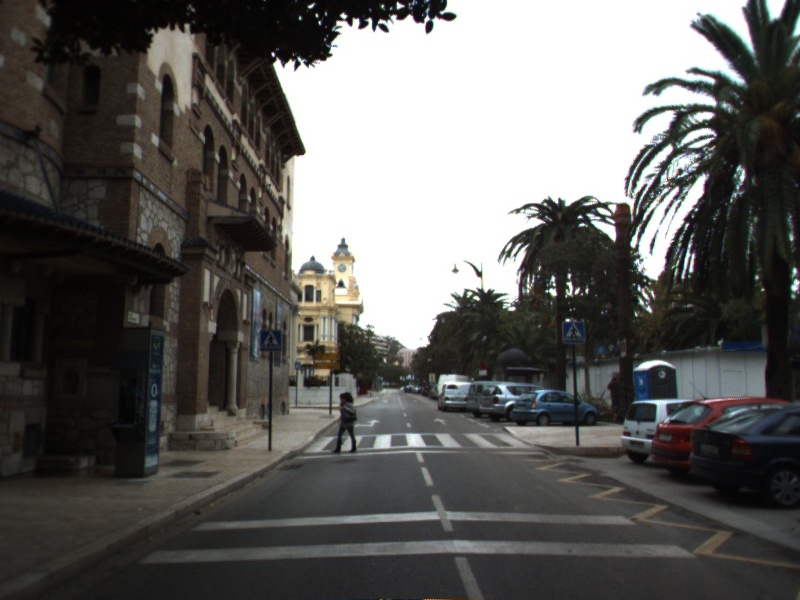STRAIGHT: (431, 416, 450, 427)
STRAIGHT_LEFT: (351, 417, 383, 430)
